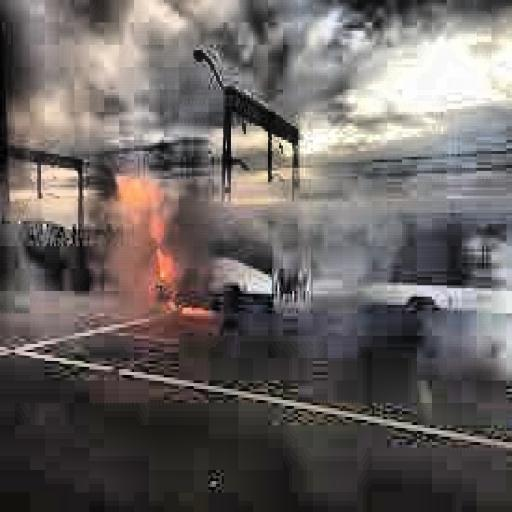fire: (103, 173, 214, 319)
